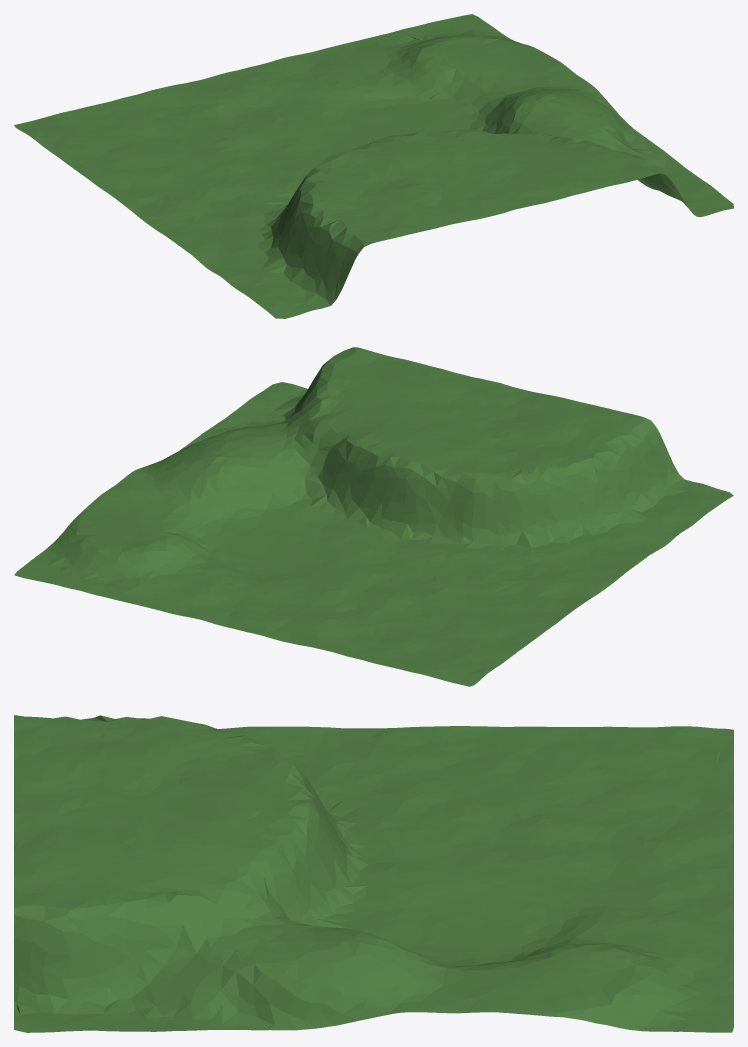
Rendered from Terrain , , , castle.fbx.
3 views of the same model, one above another, from view 1: azimuth 30°, elevation 25°; view 2: azimuth 150°, elevation 25°; view 3: azimuth 270°, elevation 25° (orthographic). The views are drawn at different scales.
Parts seen in each view (by area): view 1: pPlane3; view 2: pPlane3; view 3: pPlane3.
Boxes of the visible parts, x1,y1,x2,y2 form: pPlane3: (14, 14, 733, 318); pPlane3: (14, 347, 733, 686); pPlane3: (14, 715, 733, 1032).
Size of the model in its own units: 24 by 2.81 by 24.
